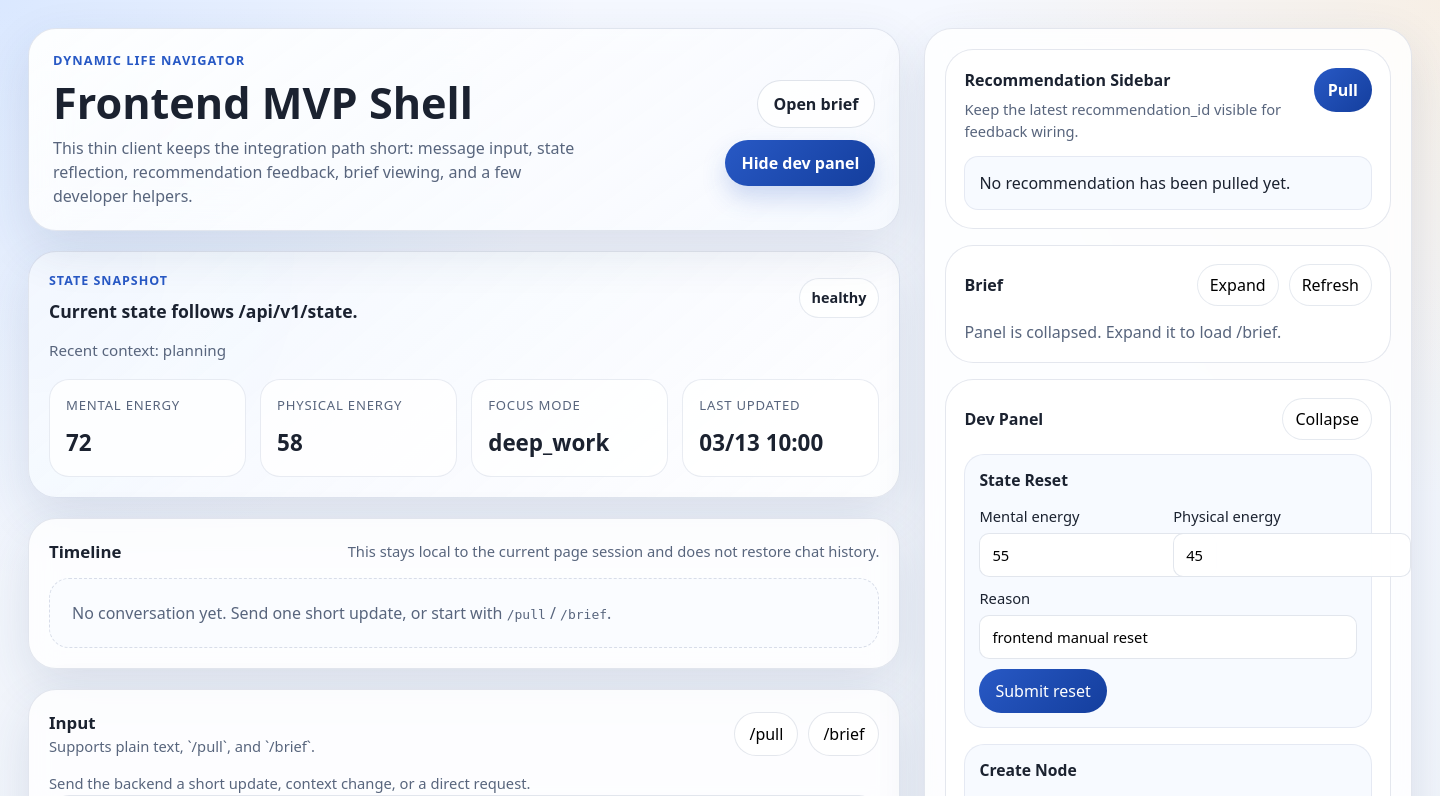
Test case: App integration › runs reset state through dev actions and silently refreshes recommendations
The image size is (1440, 796).
Expected: the text "deep_work" is shown, [488,427,609,458]
Step 1. Click the button "Submit reset" → coordinates (1043, 691), box [979,669,1107,713]
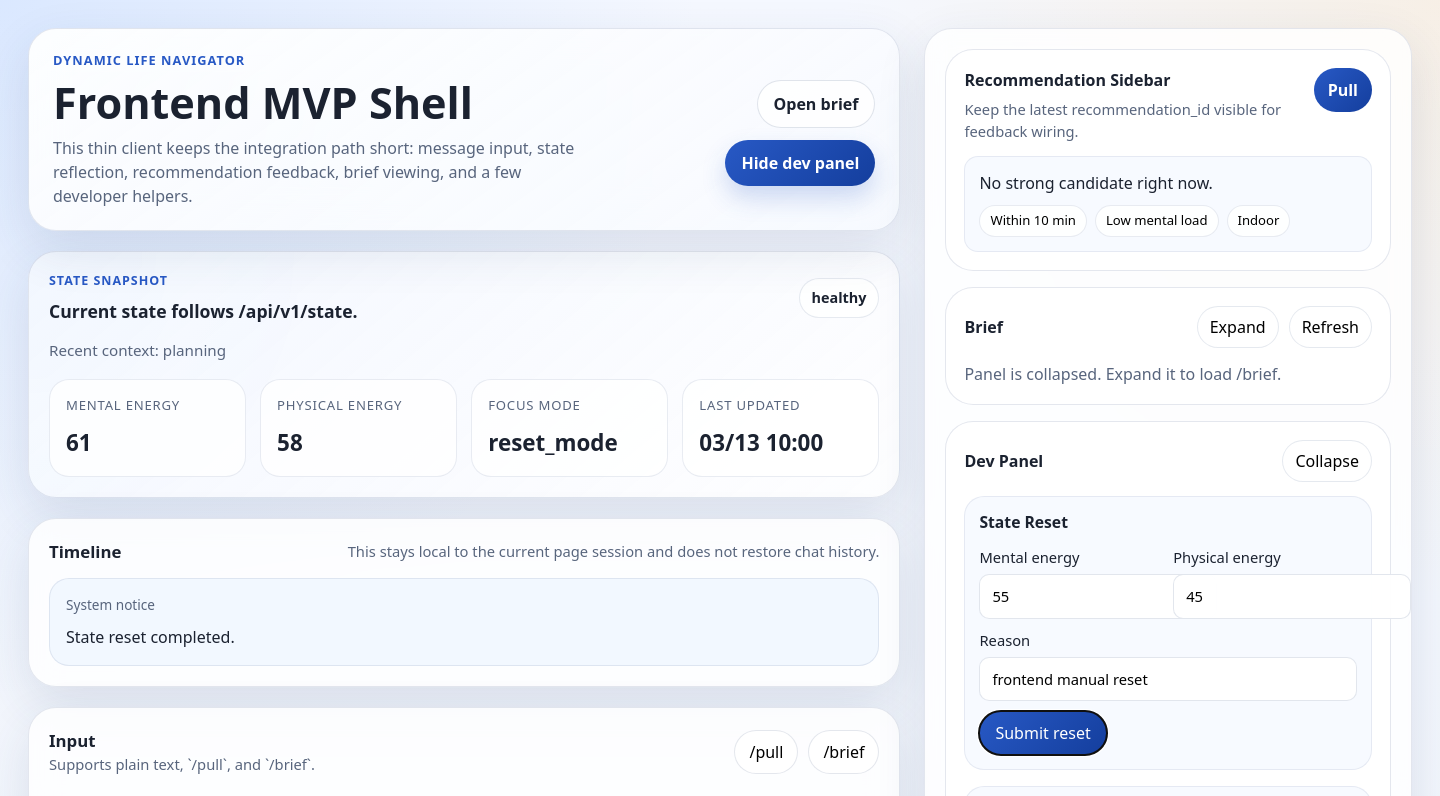
Now the text "reset_mode" is shown, box [488,427,618,458]
Now the text "State reset completed." is shown, box [66,626,235,648]
